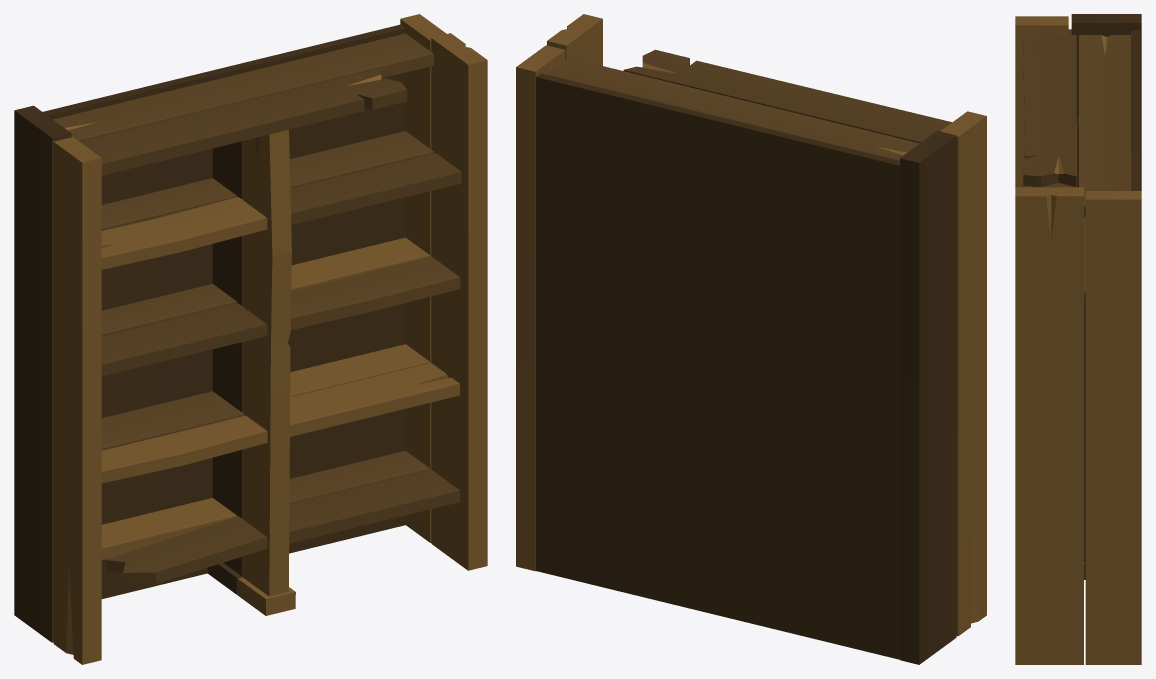
File: Rack.fbx
3 renders of one model, left to right at view 1: azimuth 30°, elevation 25°; view 2: azimuth 150°, elevation 25°; view 3: azimuth 270°, elevation 25°, orthographic. The views are drawn at different scales.
Parts seen in each view (by area): view 1: Rack; view 2: Rack; view 3: Rack.
Part boxes in pixels (x1,y1,x2,y2): Rack: (14, 14, 487, 664); Rack: (516, 14, 986, 664); Rack: (1015, 14, 1141, 664).
Bounding box in the file's own units: 183 × 218 × 53.14.
